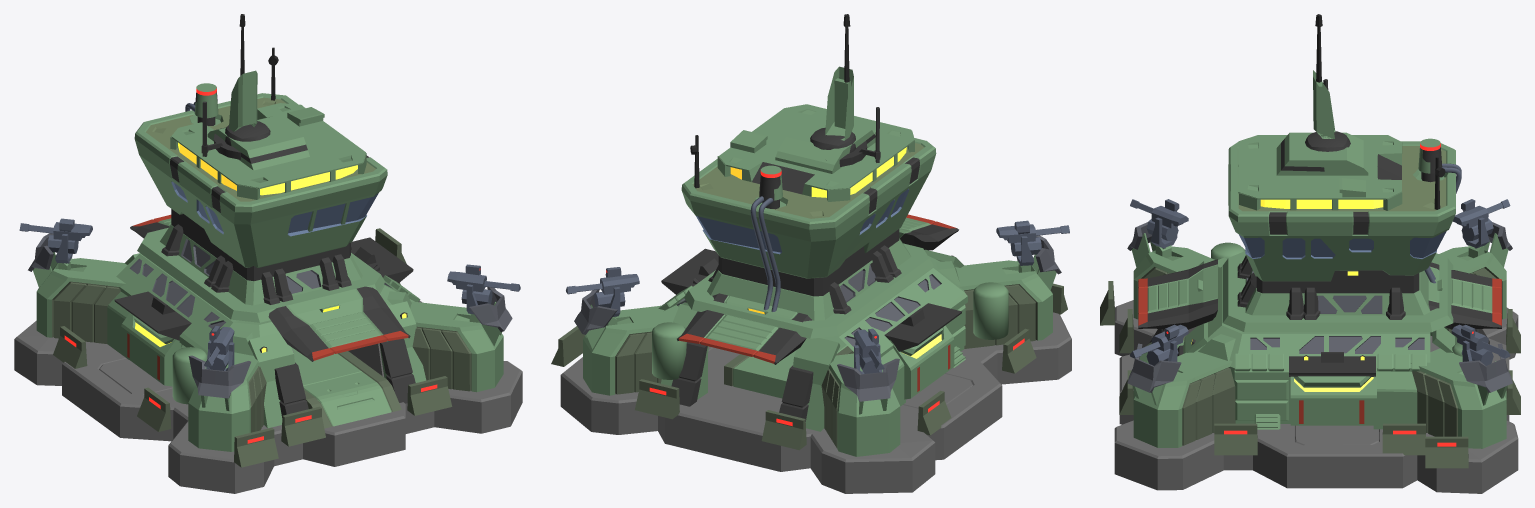
The picture shows the model from 3 angles, left to right: view 1: azimuth 30°, elevation 25°; view 2: azimuth 150°, elevation 25°; view 3: azimuth 270°, elevation 25°; orthographic projection.
Visible parts, largest first — view 1: Cube.023, Cube, Cube.003, Cube.022, Cube.001, Cube.014, Cube.004, Cube.002, Cube.017, Cube.013, Cube.015, Cube.026 (+7 smaller); view 2: Cube.023, Cube, Cube.003, Cube.022, Cube.014, Cube.001, Cube.002, Cube.017, Cube.013, Cylinder, Cube.008, Cube.026 (+8 smaller); view 3: Cube.023, Cube.003, Cube.022, Cube, Cube.001, Cube.014, Cube.013, Cube.002, Cube.017, Cube.008, Cube.026, Cube.012 (+9 smaller).
Boxes of the visible parts, bbox=[...] form: Cube.023: bbox=[14, 301, 522, 493]; Cube: bbox=[19, 214, 520, 428]; Cube.003: bbox=[134, 93, 387, 267]; Cube.022: bbox=[36, 258, 503, 451]; Cube.001: bbox=[116, 253, 414, 386]; Cube.014: bbox=[170, 103, 366, 199]; Cube.004: bbox=[291, 343, 401, 428]; Cube.002: bbox=[207, 14, 324, 170]; Cube.017: bbox=[53, 282, 452, 446]; Cube.013: bbox=[137, 228, 384, 322]; Cube.015: bbox=[114, 237, 413, 340]; Cube.026: bbox=[28, 233, 512, 398]; Cube.023: bbox=[560, 312, 1071, 493]; Cube: bbox=[566, 214, 1069, 431]; Cube.003: bbox=[681, 138, 936, 278]; Cube.022: bbox=[583, 260, 1052, 456]; Cube.014: bbox=[717, 104, 914, 201]; Cube.001: bbox=[664, 256, 967, 399]; Cube.002: bbox=[694, 14, 875, 188]; Cube.017: bbox=[635, 328, 1036, 450]; Cube.013: bbox=[684, 243, 933, 338]; Cylinder: bbox=[652, 282, 1008, 379]; Cube.008: bbox=[707, 238, 910, 320]; Cube.026: bbox=[574, 235, 1061, 401]; Cube.023: bbox=[1114, 300, 1518, 493]; Cube.003: bbox=[1228, 141, 1455, 281]; Cube.022: bbox=[1133, 246, 1506, 448]; Cube: bbox=[1130, 199, 1510, 405]; Cube.001: bbox=[1198, 257, 1430, 429]; Cube.014: bbox=[1238, 135, 1402, 210]; Cube.013: bbox=[1222, 251, 1453, 332]; Cube.002: bbox=[1276, 14, 1440, 209]; Cube.017: bbox=[1119, 309, 1520, 455]; Cube.008: bbox=[1245, 270, 1430, 315]; Cube.026: bbox=[1127, 222, 1512, 392]; Cube.012: bbox=[1256, 270, 1419, 293].
Size of the model in its own units: 446 by 442 by 444.
